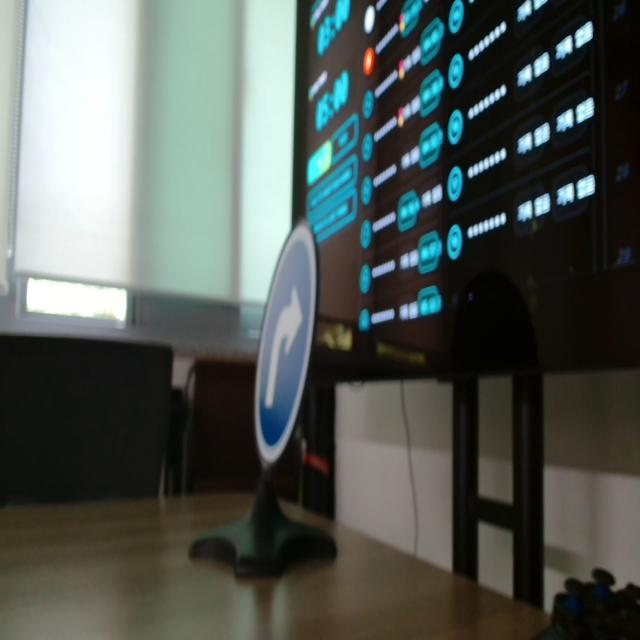right_dierection: (240, 199, 340, 482)
